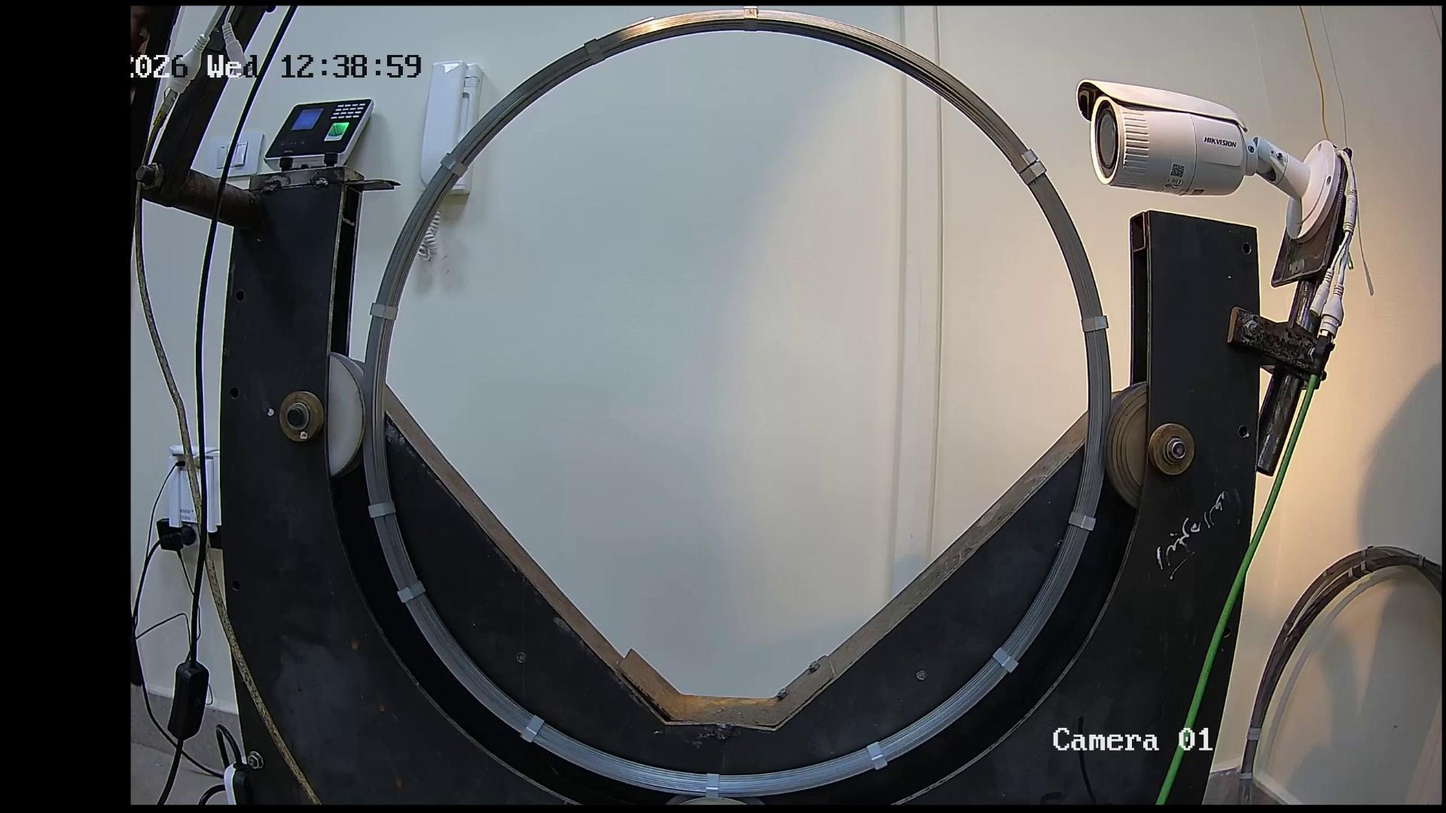clamp: (439, 151, 469, 179), (991, 646, 1019, 674), (1010, 147, 1039, 174), (1019, 159, 1048, 185), (519, 714, 544, 744), (865, 740, 889, 771), (397, 579, 427, 603), (583, 37, 606, 65), (369, 302, 399, 322), (1068, 511, 1096, 532), (366, 500, 397, 518), (1080, 316, 1111, 333), (742, 6, 759, 33), (705, 772, 720, 799)
